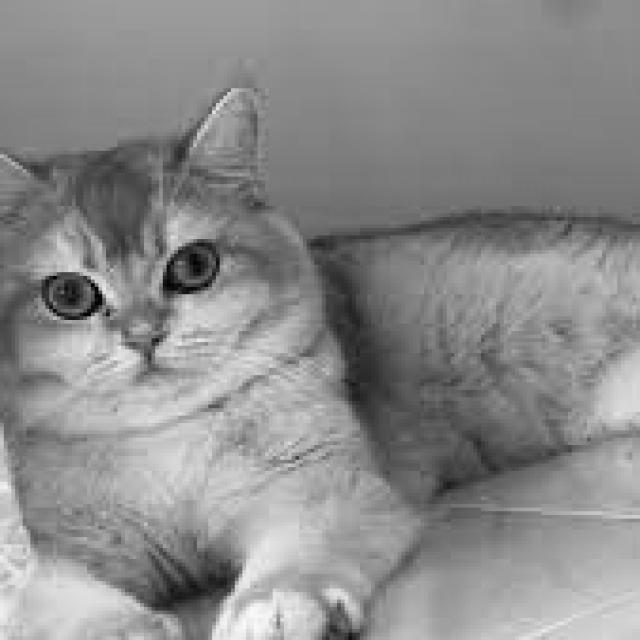british: (0, 59, 364, 441)
